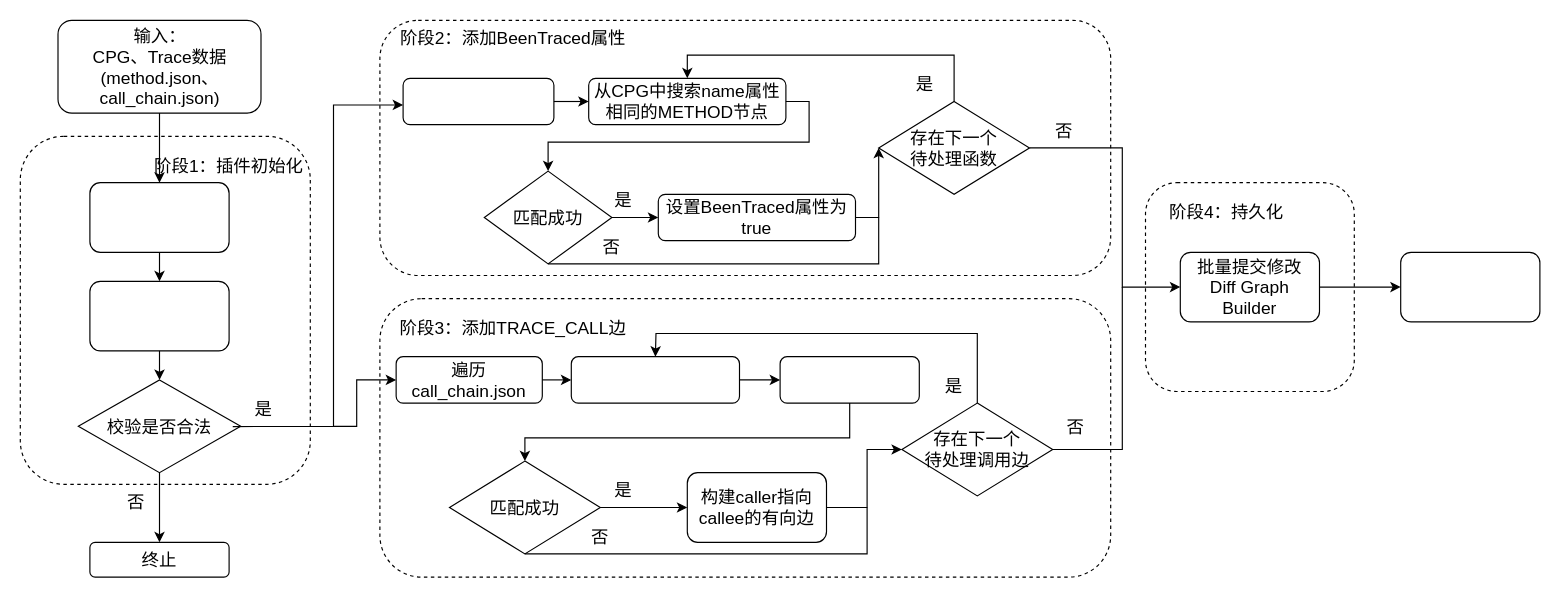
The diagram is 1560 pixels wide and 597 high, and some of its shapes have lost their labels. The centre of each missing label's shape, as x and y in pixels:
从CPG中搜索同名METHOD节点: (x=849, y=379)
加载插件 TraceExtension: (x=159, y=217)
提取caller和callee: (x=655, y=379)
解析JSON数据: (x=159, y=315)
输出：EnCPG 保存到workspace: (x=1470, y=286)
遍历method.json: (x=478, y=101)
